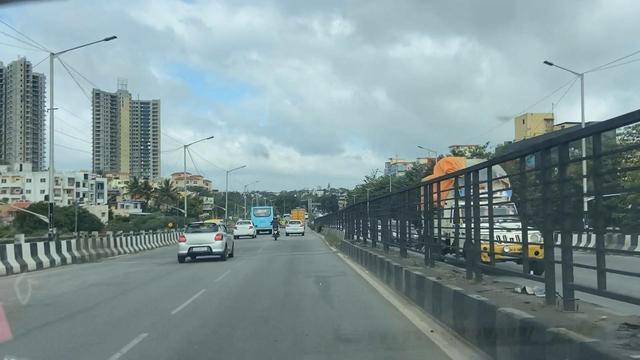HMV: (249, 203, 280, 246)
LMV: (175, 212, 237, 271), (266, 207, 287, 249), (231, 218, 260, 245), (281, 214, 309, 241)
